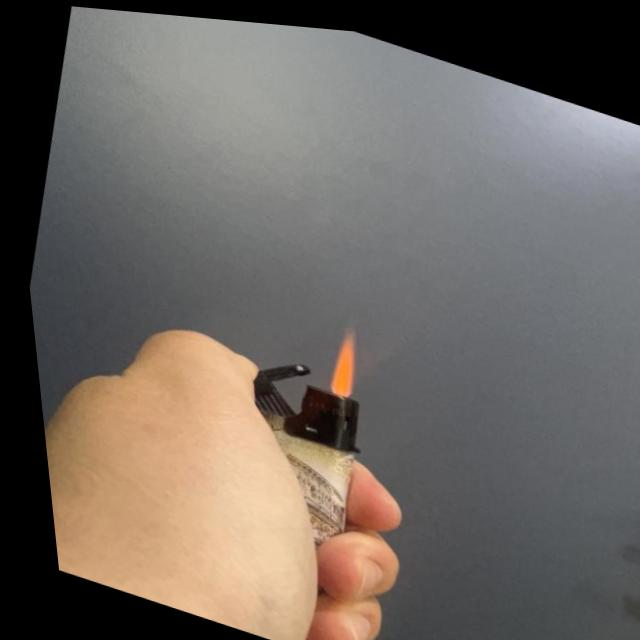Fire: (309, 312, 364, 396)
